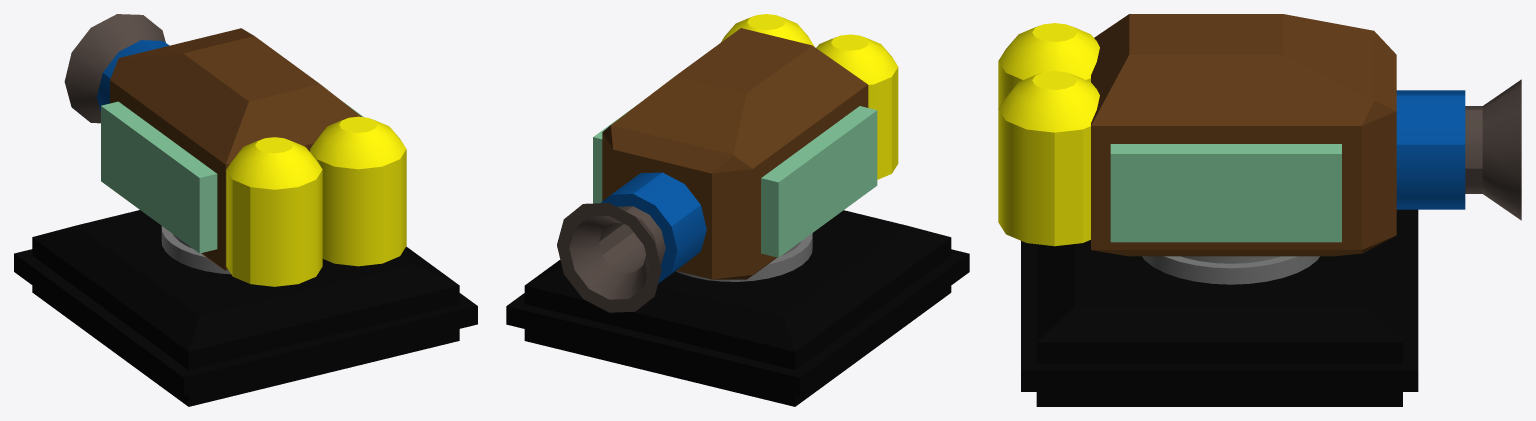
File: turret5_1.fbx
3 renders of one model, left to right at view 1: azimuth 30°, elevation 25°; view 2: azimuth 150°, elevation 25°; view 3: azimuth 270°, elevation 25°, orthographic. The views are drawn at different scales.
Parts seen in each view (by area): view 1: Cube.042, Cube.043, Cylinder.033, Cylinder.032, Cylinder.031; view 2: Cube.042, Cube.043, Cylinder.032, Cylinder.033, Cylinder.031; view 3: Cube.043, Cube.042, Cylinder.033, Cylinder.032, Cylinder.031.
Part boxes in pixels (x1=…): Cube.042: x1=14, y1=210, x2=477, y2=406; Cube.043: x1=101, y1=28, x2=363, y2=270; Cylinder.033: x1=226, y1=116, x2=406, y2=286; Cylinder.032: x1=64, y1=14, x2=169, y2=123; Cylinder.031: x1=161, y1=226, x2=230, y2=274; Cube.042: x1=506, y1=210, x2=969, y2=406; Cube.043: x1=593, y1=28, x2=877, y2=279; Cylinder.032: x1=557, y1=172, x2=706, y2=312; Cylinder.033: x1=721, y1=14, x2=898, y2=179; Cylinder.031: x1=675, y1=233, x2=812, y2=281; Cube.043: x1=1091, y1=14, x2=1396, y2=256; Cube.042: x1=1021, y1=209, x2=1418, y2=406; Cylinder.033: x1=998, y1=23, x2=1099, y2=246; Cylinder.032: x1=1396, y1=79, x2=1521, y2=220; Cylinder.031: x1=1142, y1=256, x2=1319, y2=284.
Bounding box in the file's own units: 390 × 320 × 514.
